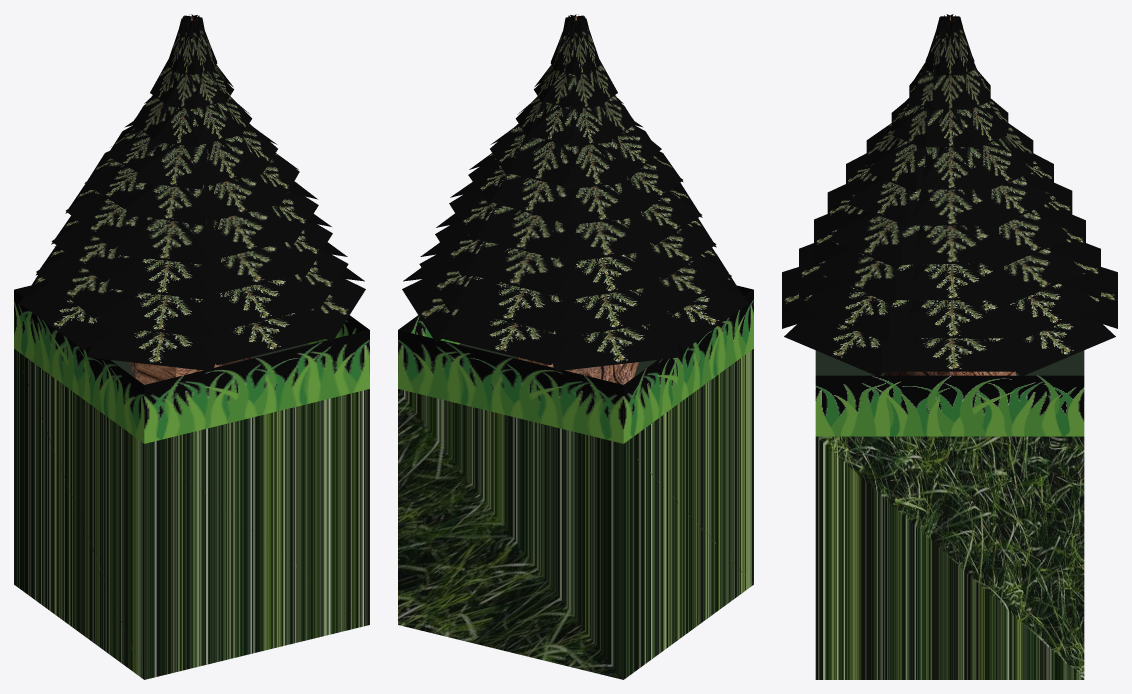
The model's file is PineTree.glb.
3 views of the same model, side by side, from view 1: azimuth 30°, elevation 25°; view 2: azimuth 150°, elevation 25°; view 3: azimuth 270°, elevation 25° (orthographic). The views are drawn at different scales.
Parts seen in each view (by area): view 1: Cone; view 2: Cone; view 3: Cone.
Boxes of the visible parts, box(x1,y1,x2,y2) form: Cone: box(14, 14, 369, 679); Cone: box(398, 14, 753, 679); Cone: box(782, 14, 1117, 679).
Size of the model in its own units: 2.5 by 5 by 2.5.
4 materials, 4 textured.
